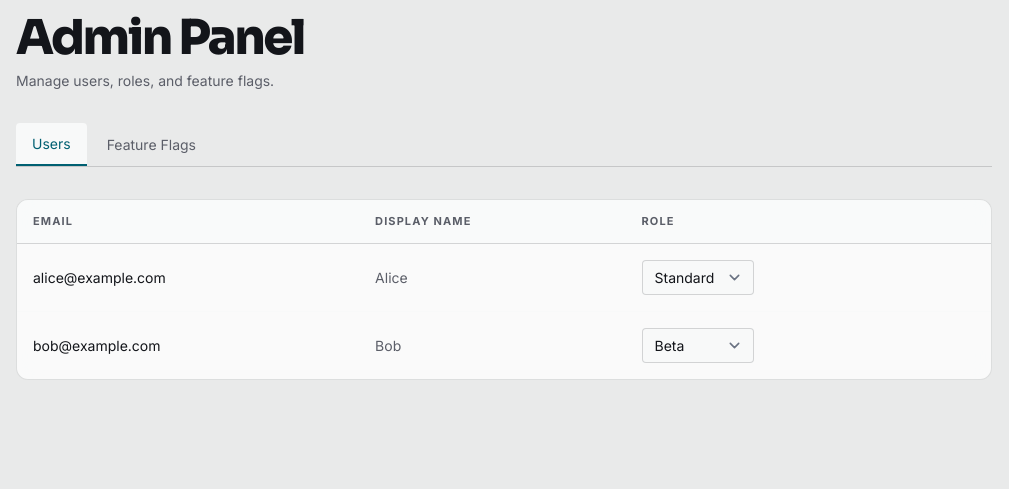
Test: AdminPage › shows error when flag load fails
This screenshot has width=1009, height=489.
Expected: the text "alice@example.com" is shown, x1=17 y1=244 x2=359 y2=312
Click the button "Feature Flags": (151, 144) x1=91 y1=123 x2=212 y2=166
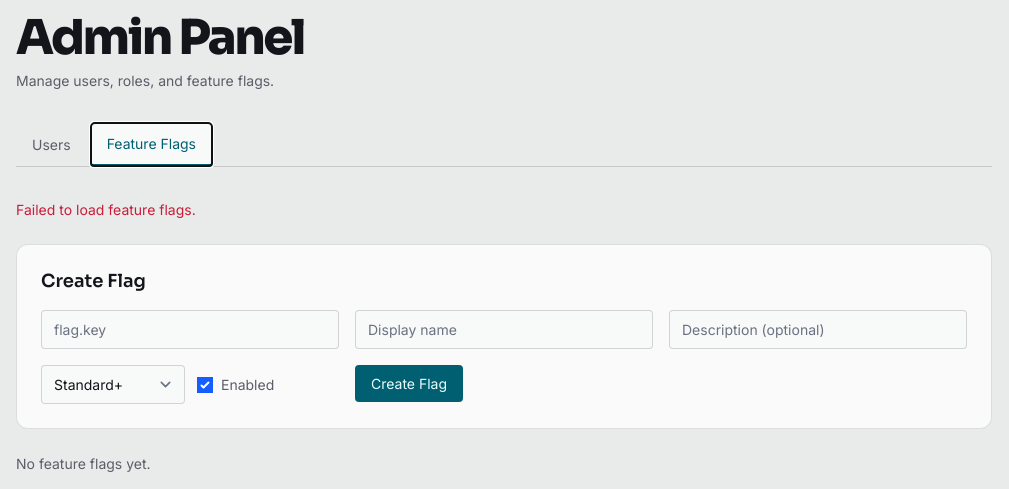
Expected: the text "Failed to load feature flags." is shown, x1=16 y1=201 x2=196 y2=218
